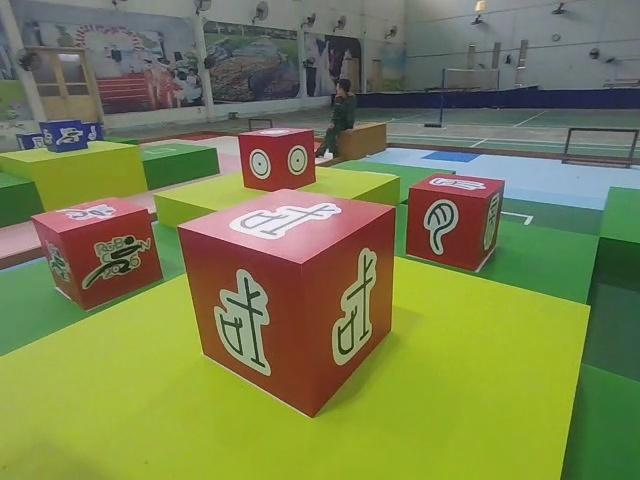R1: (28, 193, 166, 315)
R2 Fake: (403, 171, 508, 274)
R2 Real: (174, 185, 400, 420), (235, 123, 318, 194)
